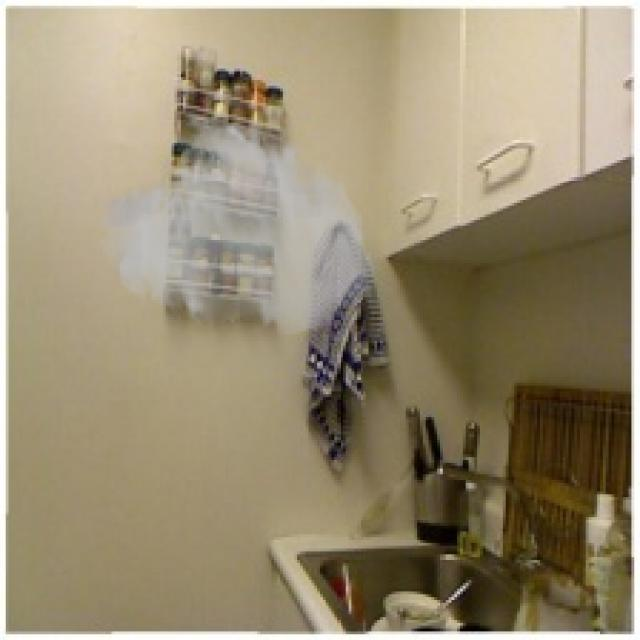smoke: (97, 109, 377, 337)
